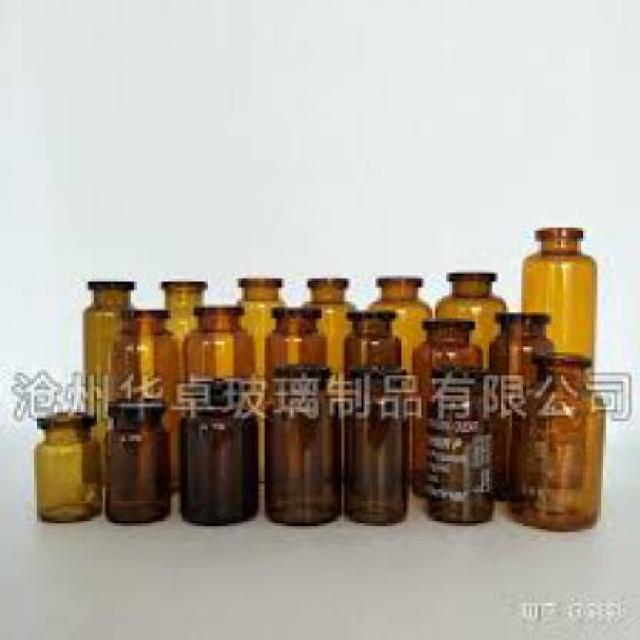kaca: (509, 348, 600, 535), (411, 312, 482, 492), (423, 345, 492, 523), (483, 311, 549, 495), (338, 365, 409, 520), (177, 389, 258, 523), (265, 365, 332, 523), (522, 225, 592, 362), (104, 402, 170, 520), (31, 412, 100, 523), (80, 278, 131, 416), (180, 302, 257, 384), (109, 308, 180, 389), (371, 276, 431, 362), (230, 278, 282, 376), (435, 274, 503, 344), (258, 308, 322, 372), (308, 276, 352, 362), (342, 311, 396, 371), (160, 278, 202, 331)
